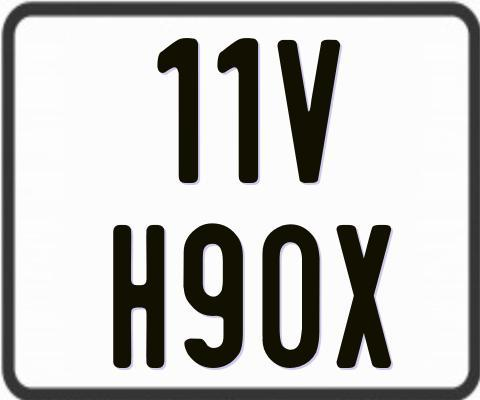0: (262, 223, 320, 367)
1: (156, 38, 200, 188), (215, 36, 259, 183)
9: (180, 223, 243, 372)
H: (113, 222, 165, 366)
V: (277, 38, 341, 182)
X: (337, 225, 394, 372)
